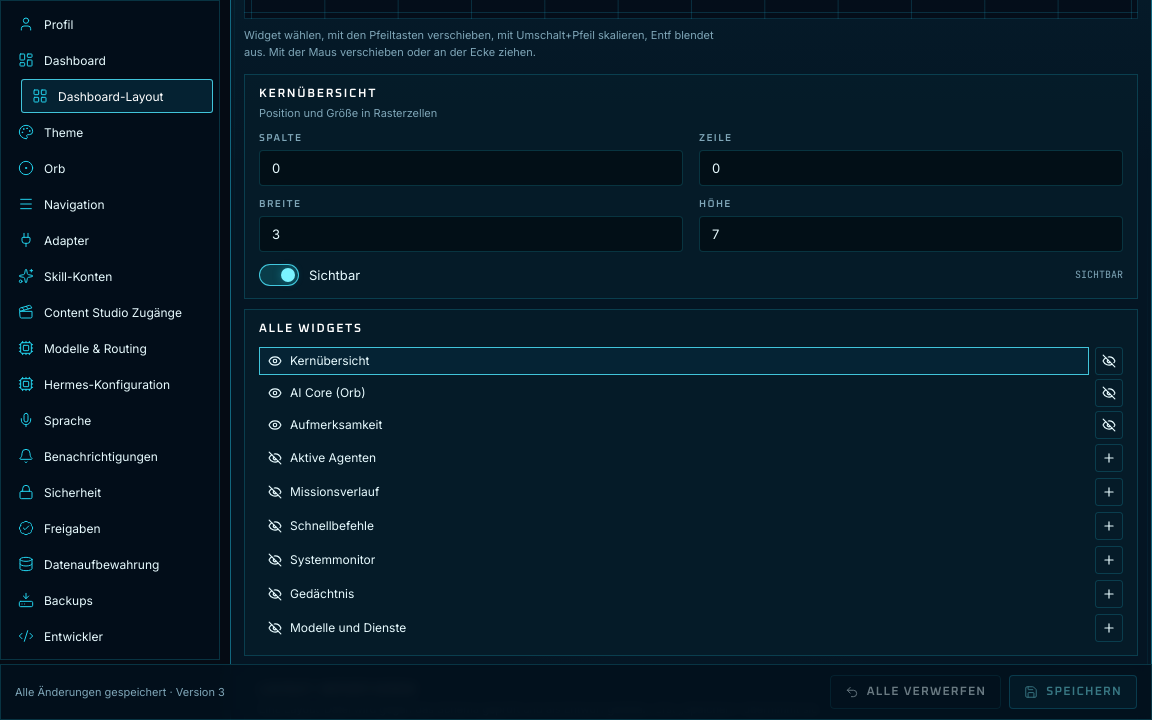
Test: layout editor › hides and re-adds widgets
(page scrolled)
Click the button named "Kernübersicht ausblenden" at (1109, 360), box [1095,346,1123,374]
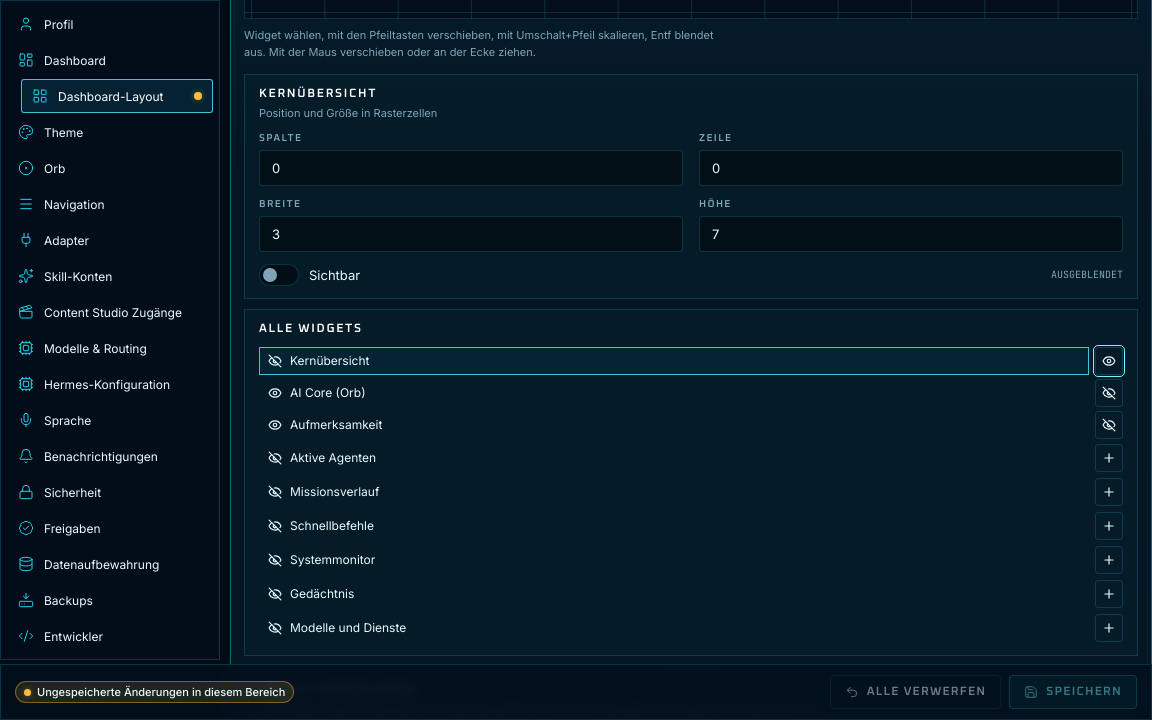
Now the button named "Kernübersicht einblenden" is shown, box [1095,346,1123,374]
Click the button named "Systemmonitor hinzufügen" at (1109, 560), box [1095,546,1123,574]
(page scrolled)
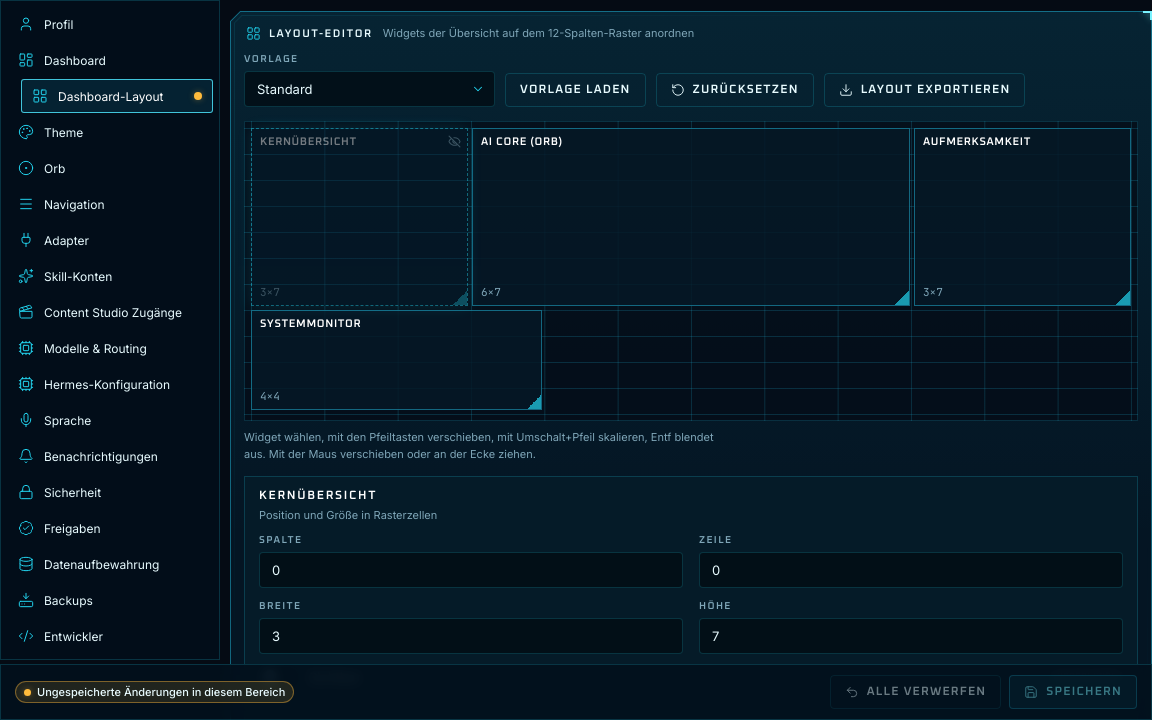
Now the button with aria-label "Systemmonitor: Spalte 0" is shown, box [251,310,542,410]
